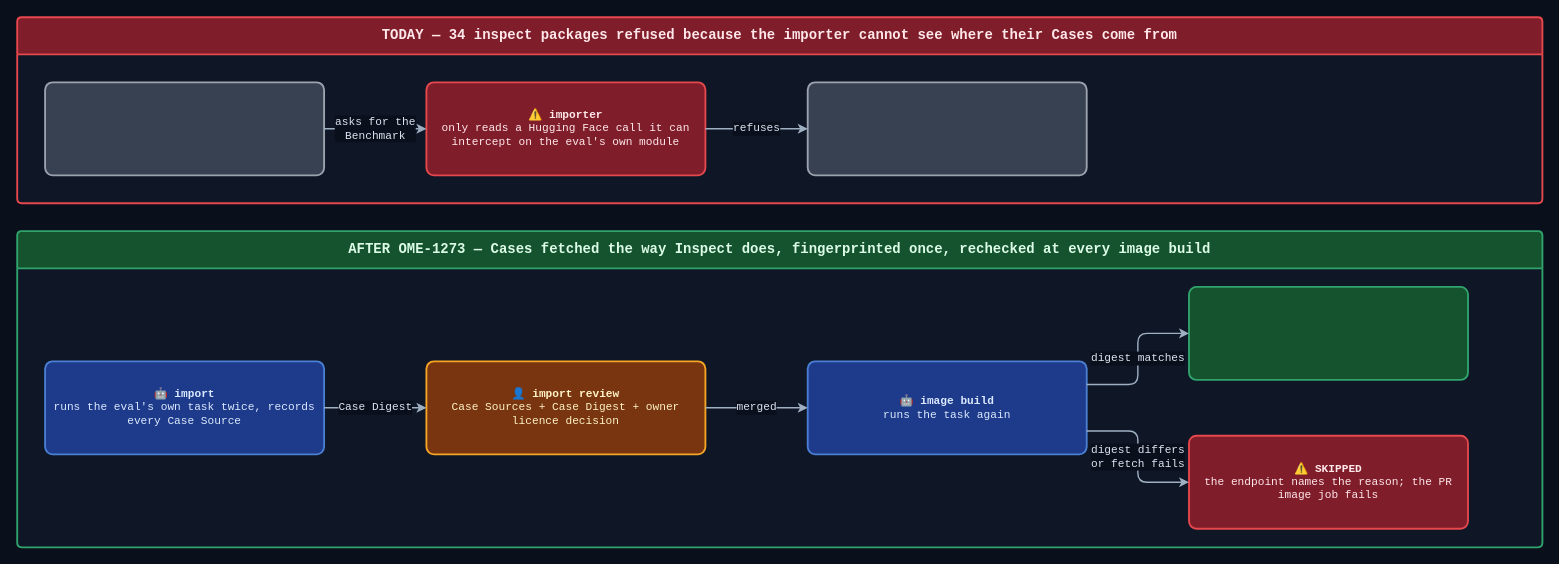
Some shapes in this 1559 by 564 pixel diagram are drawn without their labels. The centre of each missing label's shape, as x and y in pixels:
"no Benchmark the reason lives in a PR appendix" belongs at (946,128).
"✅ Benchmark served" belongs at (1328,333).
"👤 researcher paper reports on agieval or medqa" belongs at (184,128).
